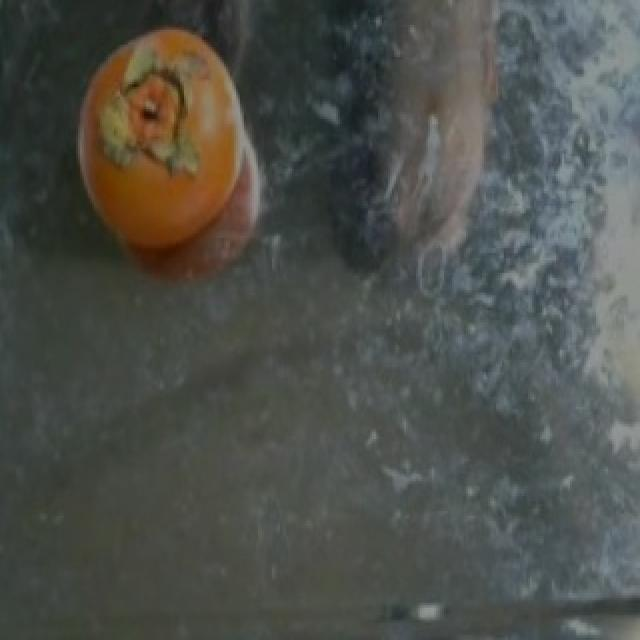Fruit: (46, 3, 280, 305)
